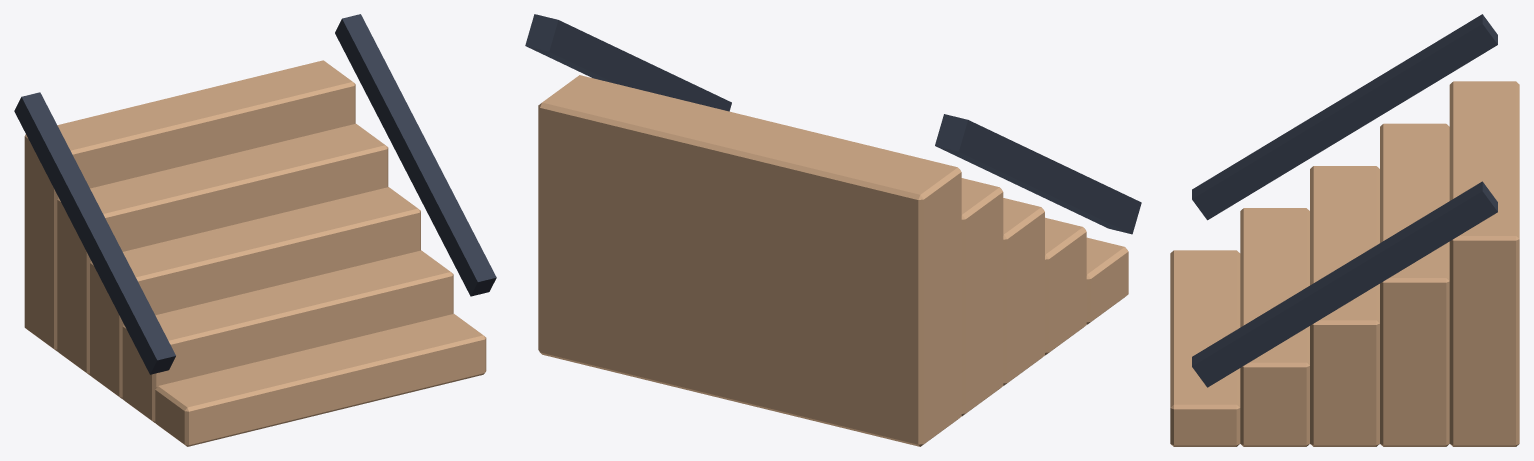
The model's file is terrace_stairs1.glb.
3 views of the same model, side by side, from view 1: azimuth 30°, elevation 25°; view 2: azimuth 150°, elevation 25°; view 3: azimuth 270°, elevation 25° (orthographic). The views are drawn at different scales.
Visible parts, largest first — view 1: terrace_stairs_s4, terrace_stairs_s3, terrace_stairs_s2, terrace_stairs_s1, terrace_stairs, terrace_stairs_side_r, terrace_stairs_side_l; view 2: terrace_stairs_s4, terrace_stairs_s3, terrace_stairs_side_l, terrace_stairs_s2, terrace_stairs_side_r, terrace_stairs_s1, terrace_stairs; view 3: terrace_stairs_s4, terrace_stairs_s3, terrace_stairs_s2, terrace_stairs_s1, terrace_stairs, terrace_stairs_side_r, terrace_stairs_side_l.
Boxes of the visible parts, x1,y1,x2,y2 form: terrace_stairs_s4: (24, 60, 355, 350); terrace_stairs_s3: (57, 123, 388, 375); terrace_stairs_s2: (90, 187, 420, 398); terrace_stairs_s1: (122, 250, 453, 422); terrace_stairs: (155, 314, 486, 446); terrace_stairs_side_r: (335, 14, 496, 296); terrace_stairs_side_l: (14, 92, 175, 374); terrace_stairs_s4: (538, 75, 961, 446); terrace_stairs_s3: (961, 178, 1003, 416); terrace_stairs_side_l: (935, 114, 1141, 234); terrace_stairs_s2: (1003, 198, 1044, 385); terrace_stairs_side_r: (525, 14, 731, 111); terrace_stairs_s1: (1045, 217, 1086, 355); terrace_stairs: (1086, 237, 1128, 324); terrace_stairs_s4: (1449, 81, 1519, 446); terrace_stairs_s3: (1380, 123, 1449, 446); terrace_stairs_s2: (1310, 166, 1379, 446); terrace_stairs_s1: (1240, 208, 1309, 446); terrace_stairs: (1170, 250, 1240, 446); terrace_stairs_side_r: (1192, 181, 1497, 387); terrace_stairs_side_l: (1192, 14, 1497, 220).
Size of the model in its own units: 1.8 by 1.27 by 1.5.
